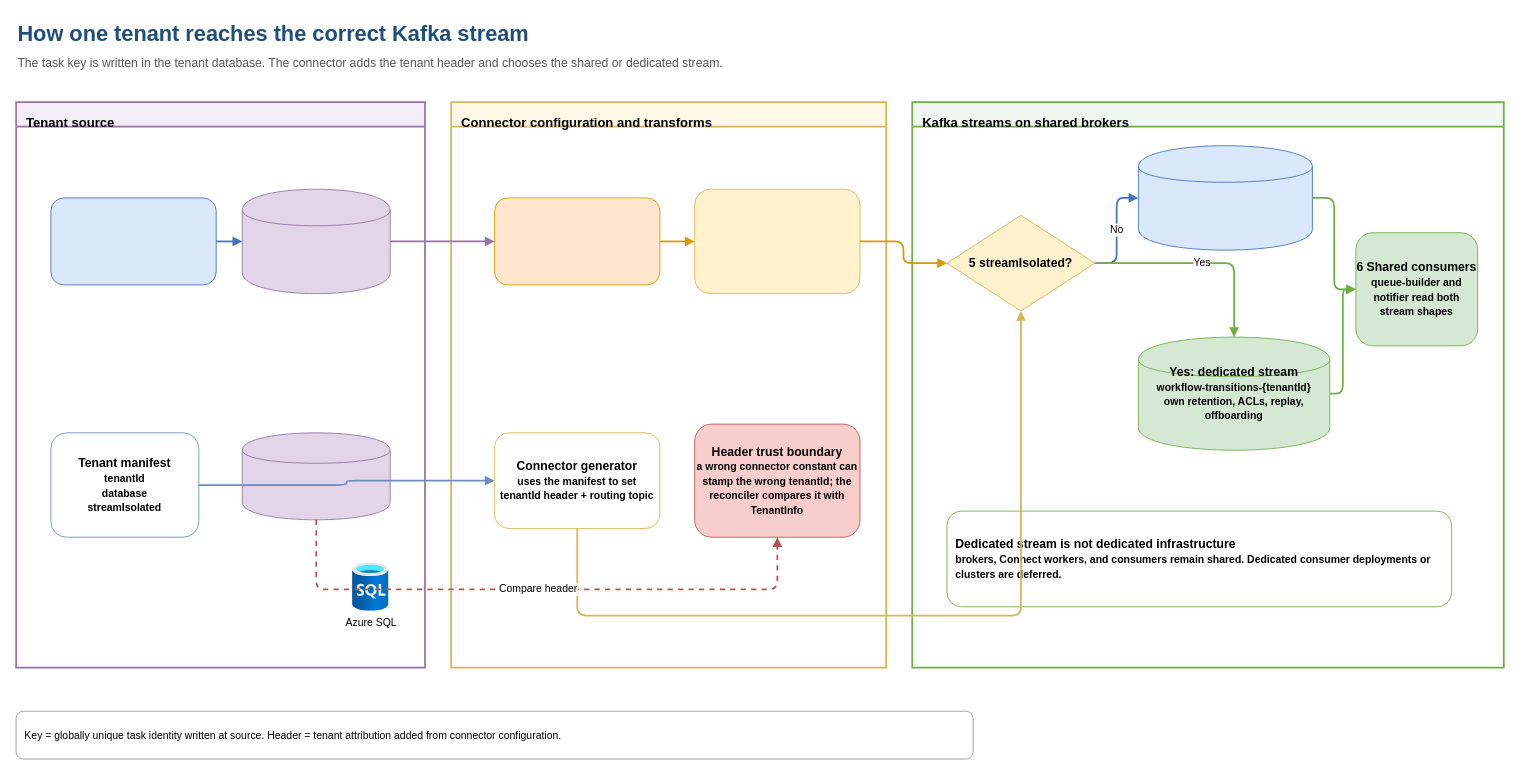
The diagram is 1519 pixels wide and 774 high, and some of its shapes have lost their labels. The centre of each missing label's shape, as x and y in pixels:
1 task-api commits a change writes WorkflowTask and Outbox together: (133,241)
2 dbo.Outbox AggregateId = {tenantId}-{taskId} this becomes the Kafka key: (315,241)
3 One connector per tenant reads only that tenant database: (577,241)
4 Stock transforms outbox unwraps the event tenantHeader adds tenantId: (777,241)
dbo.TenantInfo source claim for tenant attribution checks: (315,476)
No: shared stream workflow-transitions many tenant keys share 12 partitions: (1225,197)
